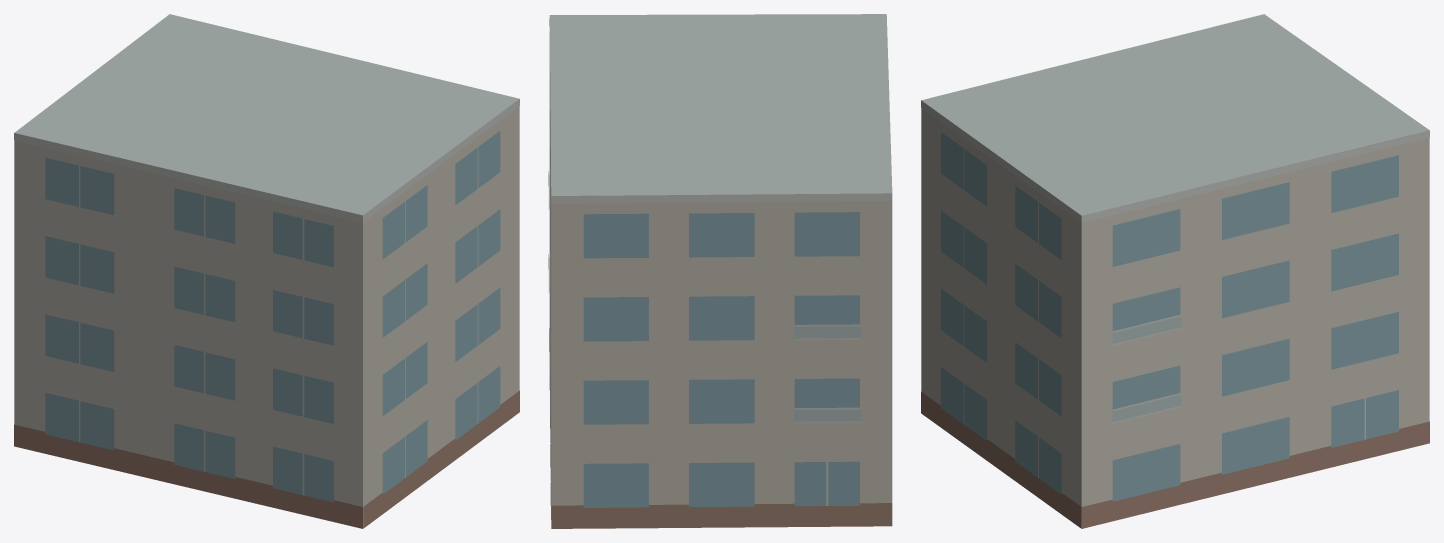
File: survey-upis-32530822.glb
3 renders of one model, left to right at view 1: azimuth 30°, elevation 25°; view 2: azimuth 150°, elevation 25°; view 3: azimuth 270°, elevation 25°, orthographic. The views are drawn at different scales.
Visible parts, largest first — view 1: survey-upis-32530822.tmp; view 2: survey-upis-32530822.tmp; view 3: survey-upis-32530822.tmp.
Boxes of the visible parts, x1,y1,x2,y2 form: survey-upis-32530822.tmp: (14, 14, 519, 528); survey-upis-32530822.tmp: (548, 14, 892, 528); survey-upis-32530822.tmp: (921, 14, 1429, 528).
Size of the model in its own units: 14.53 by 10.5 by 15.47.
